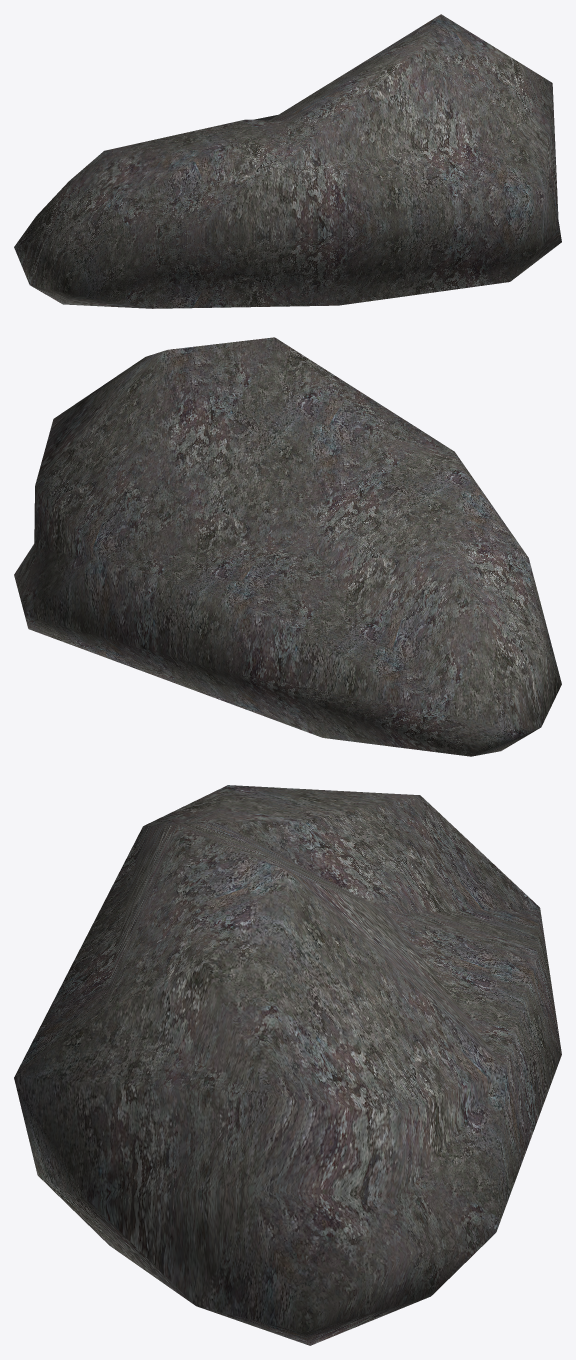
Rendered from rock_volcanorocka_l2.fbx.
3 renders of one model, top to bottom at view 1: azimuth 30°, elevation 25°; view 2: azimuth 150°, elevation 25°; view 3: azimuth 270°, elevation 25°, orthographic. The views are drawn at different scales.
Visible parts, largest first — view 1: mesh_node; view 2: mesh_node; view 3: mesh_node.
Boxes of the visible parts, box(x1,y1,x2,y2) form: mesh_node: box(14, 14, 561, 308); mesh_node: box(14, 337, 561, 756); mesh_node: box(14, 785, 561, 1345).
Bounding box in the file's own units: 18.24 × 9.42 × 11.46.
Materials: 1 (1 with a texture image).
